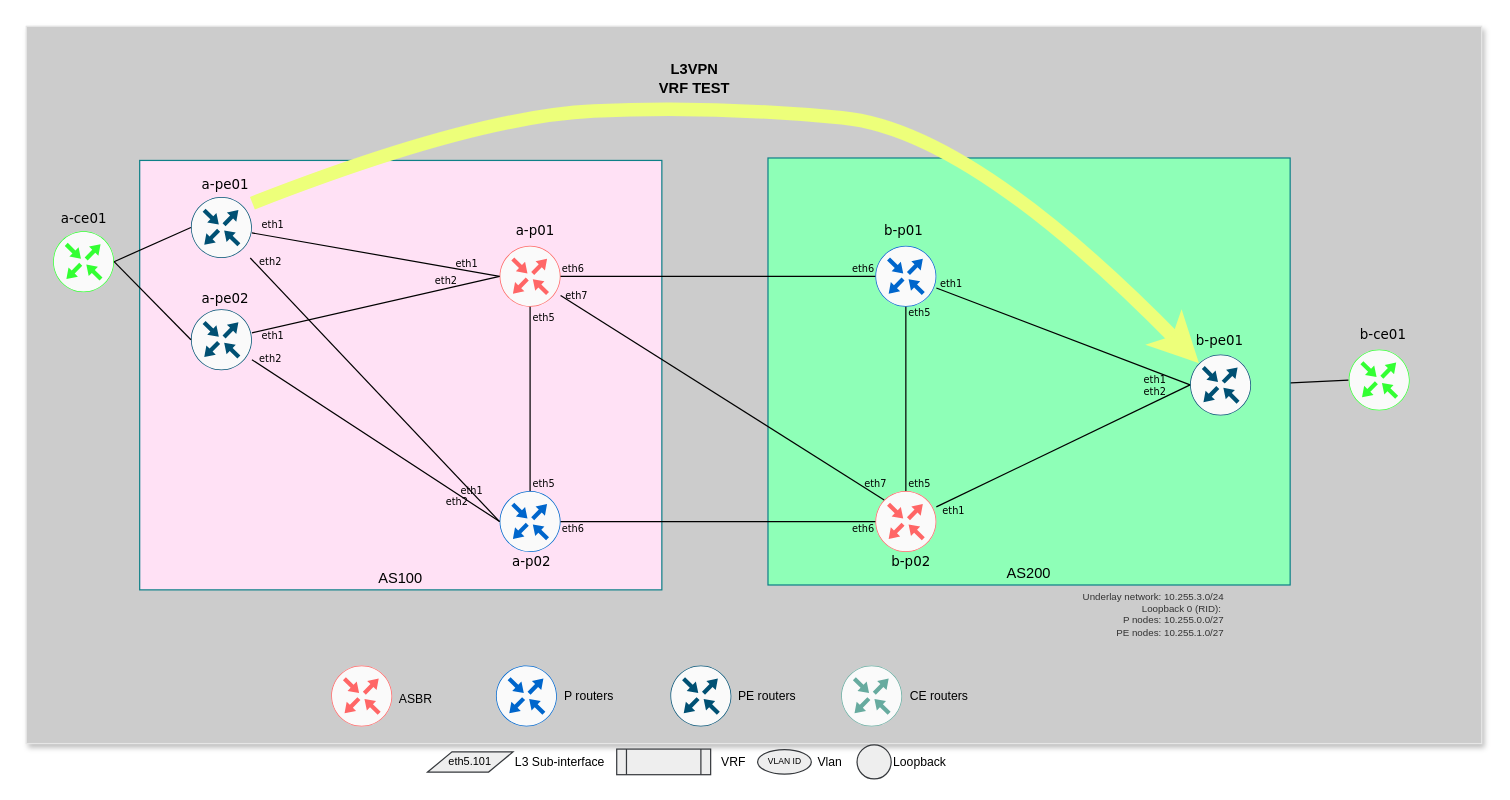
The diagram is 1510 pixels wide and 800 high, and some of its shapes have lost their labels. The shapes that lost their labels are listed below. From the top down, each one's centre as x and y in pixels, then its label:
At point 663,761: "VRF NAME".
At point 873,761: "Lo1018".
